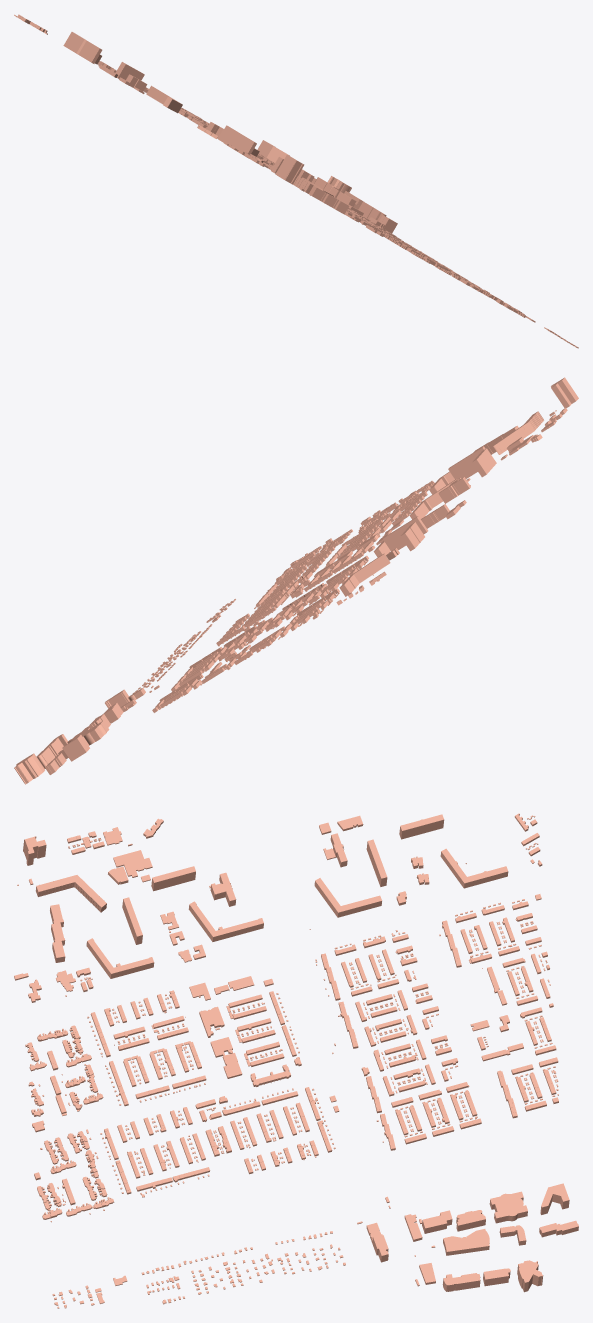
The picture shows the model from 3 angles, top to bottom: view 1: azimuth 30°, elevation 25°; view 2: azimuth 150°, elevation 25°; view 3: azimuth 270°, elevation 25°; orthographic projection. The views are drawn at different scales.
Size of the model in its own units: 1046 by 775 by 1282.
